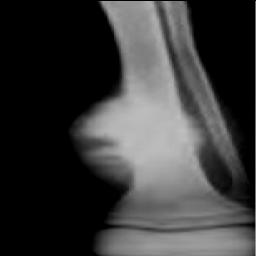cancer: (65, 98, 213, 194)
